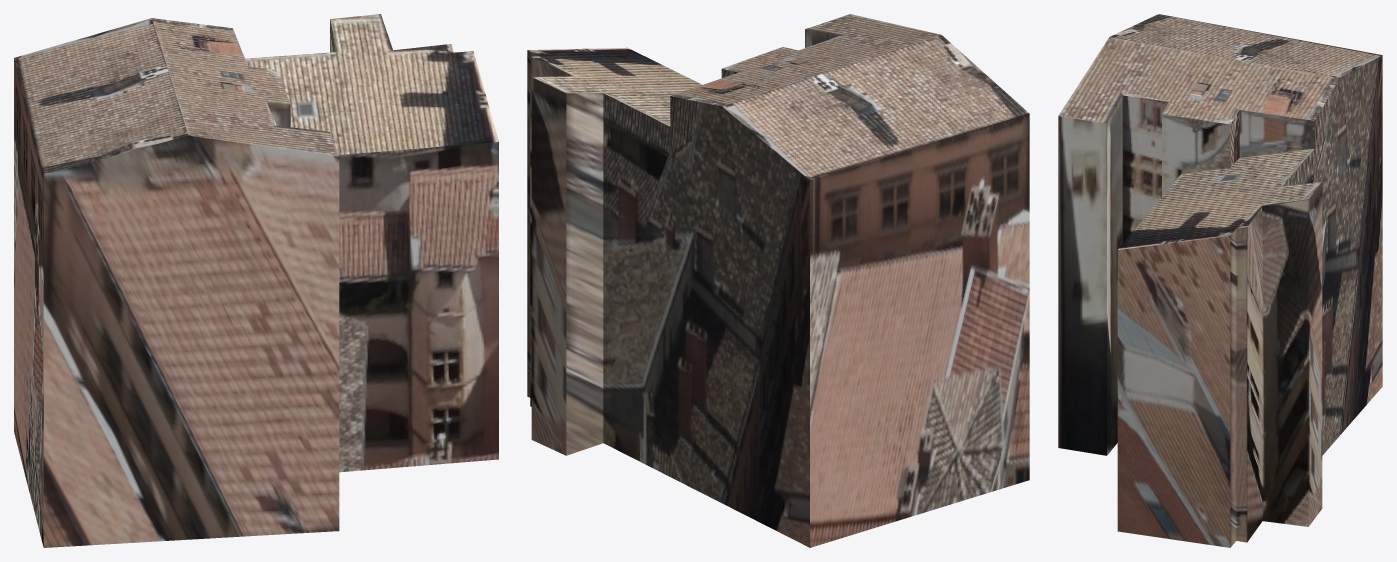
The picture shows the model from 3 angles, left to right: view 1: azimuth 30°, elevation 25°; view 2: azimuth 150°, elevation 25°; view 3: azimuth 270°, elevation 25°; orthographic projection. The views are drawn at different scales.
Visible parts, largest first — view 1: Z_UP; view 2: Z_UP; view 3: Z_UP.
Boxes of the visible parts, x1,y1,x2,y2 form: Z_UP: [14, 14, 498, 547]; Z_UP: [527, 14, 1029, 547]; Z_UP: [1058, 14, 1382, 547].
Size of the model in its own units: 25.58 by 21.01 by 17.25.
Materials: 2 (1 with a texture image).
